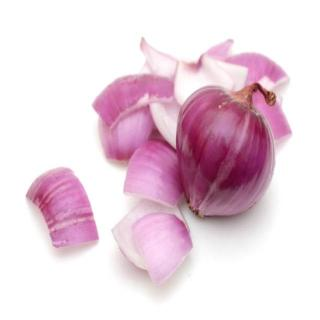Bawang Merah: (174, 79, 282, 221)
